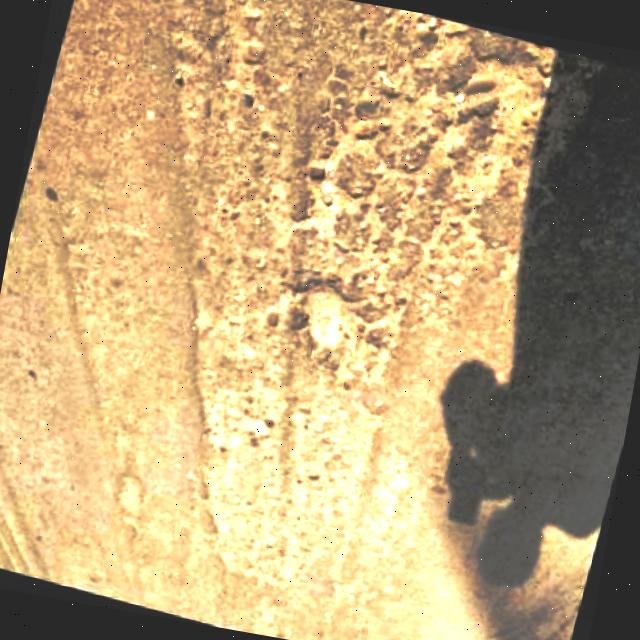pothole: (255, 90, 440, 418), (365, 8, 600, 186)
